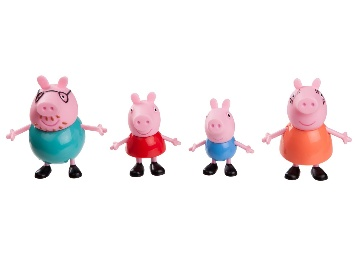Peppa: (111, 91, 182, 178)
